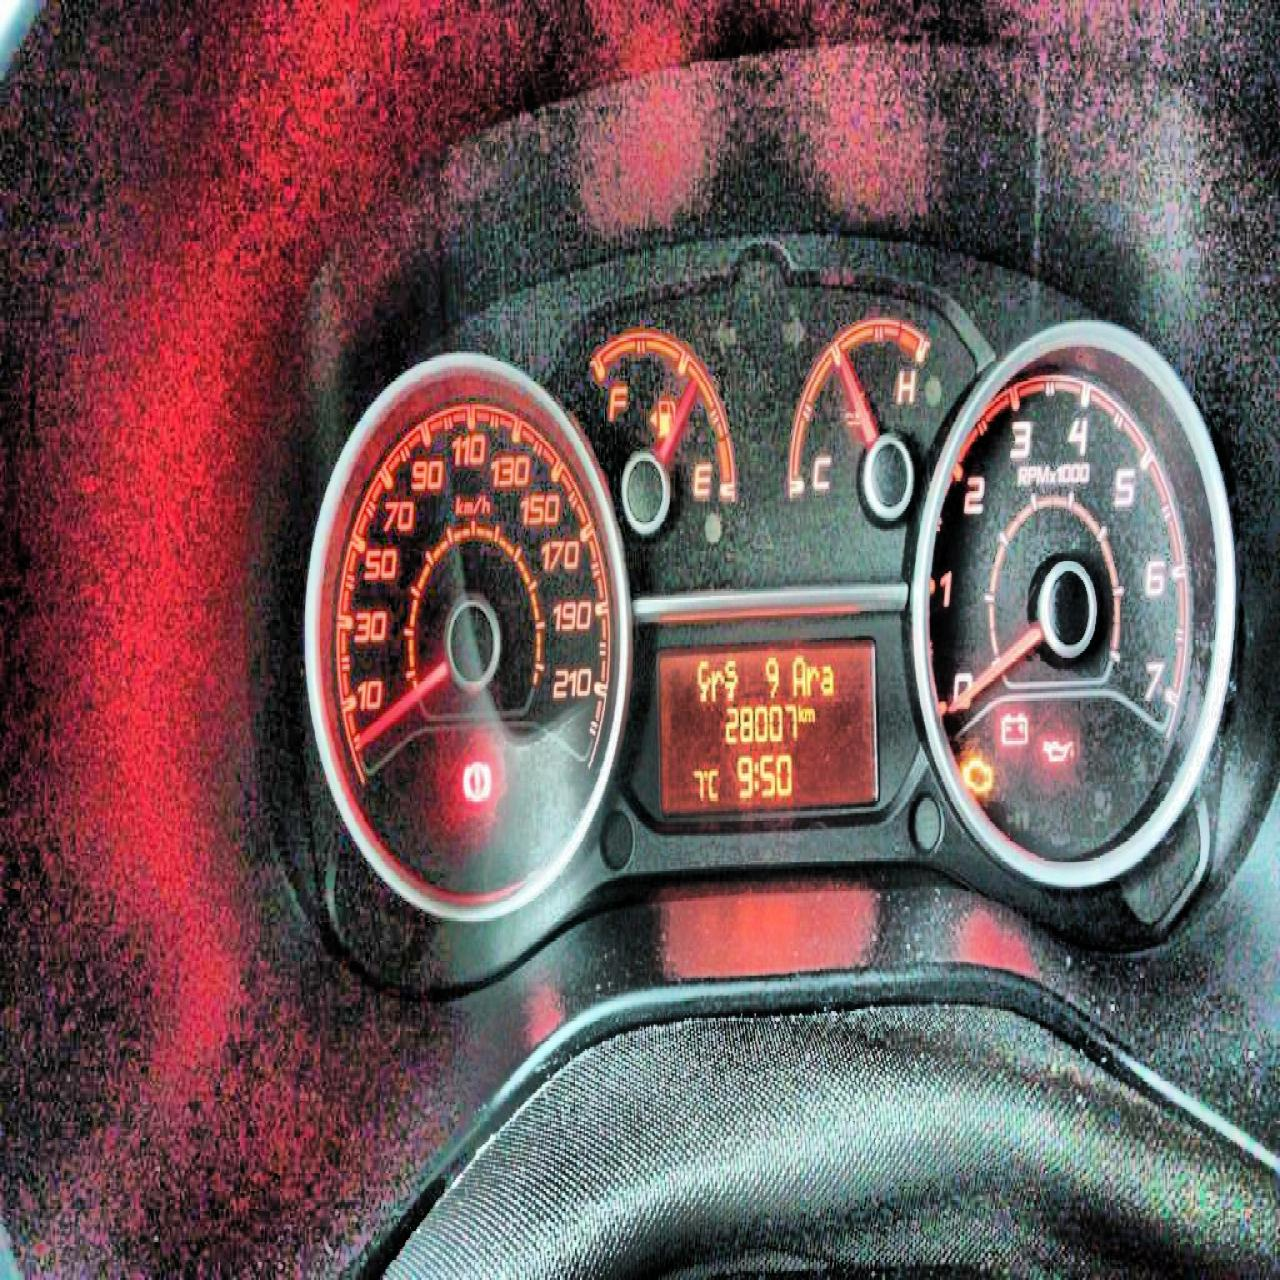0: (775, 751, 792, 796), (753, 702, 767, 740), (768, 702, 782, 740)
2: (723, 702, 737, 742)
5: (760, 751, 775, 796)
7: (784, 700, 796, 740), (693, 767, 702, 797)
8: (738, 702, 753, 742)
9: (736, 754, 753, 798), (765, 653, 779, 697)
X: (695, 655, 710, 700), (791, 651, 805, 693), (723, 655, 737, 697), (710, 665, 724, 702), (805, 662, 821, 694), (819, 662, 832, 694), (708, 764, 719, 798), (796, 700, 804, 722), (804, 704, 813, 722), (753, 757, 757, 791)
odometer: (647, 629, 885, 818)
